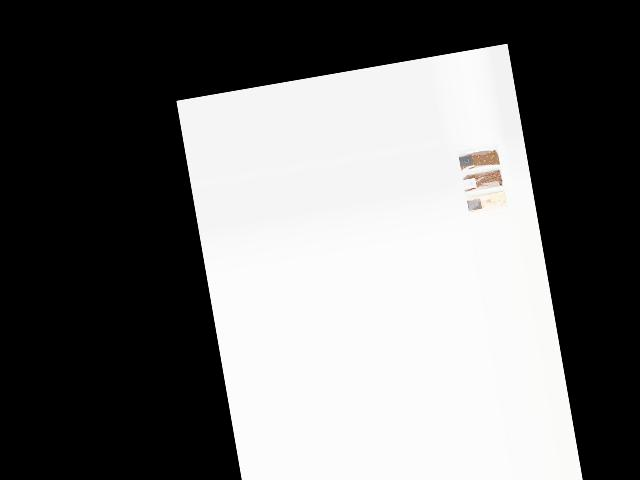chocolate: (458, 144, 501, 170)
